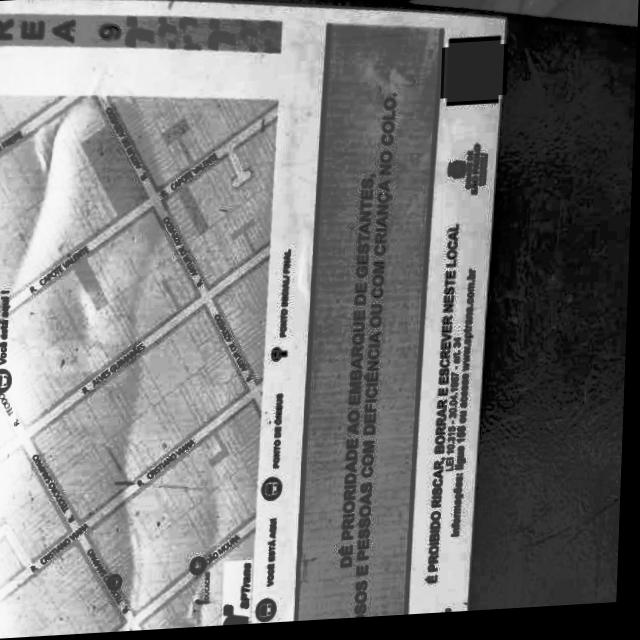qr_code: (444, 45, 505, 107)
